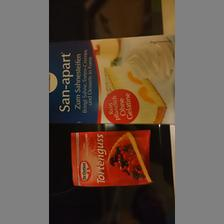Kuchen: (48, 38, 174, 122), (67, 131, 153, 186)
